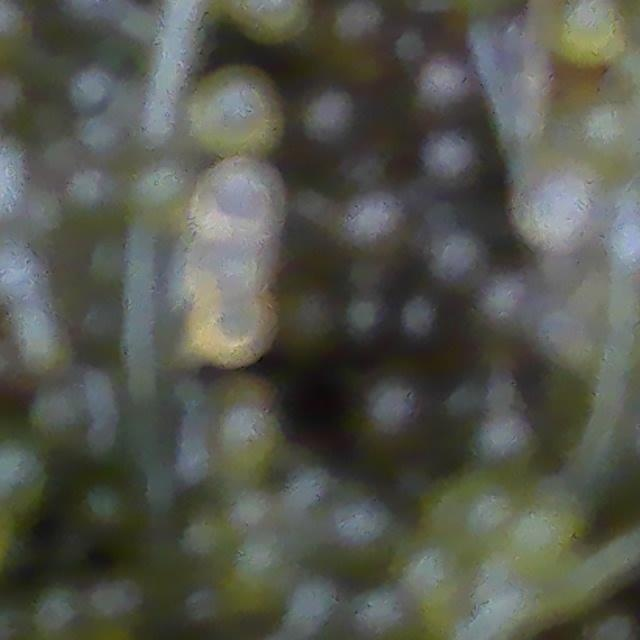SeaGrape: (186, 64, 286, 161), (203, 157, 285, 240), (177, 292, 273, 359), (197, 173, 277, 252), (181, 237, 269, 303), (519, 174, 594, 247), (359, 378, 422, 445), (126, 158, 191, 218), (0, 437, 48, 510), (351, 183, 402, 251), (423, 46, 483, 100), (314, 81, 362, 146), (439, 224, 493, 278), (428, 122, 467, 178), (608, 218, 640, 270), (339, 0, 383, 34)
